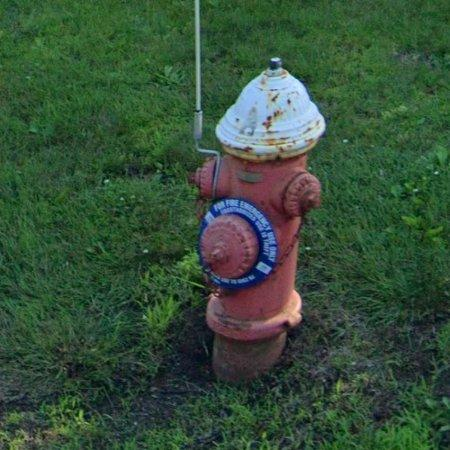a fire hydrant: (190, 58, 326, 382)
